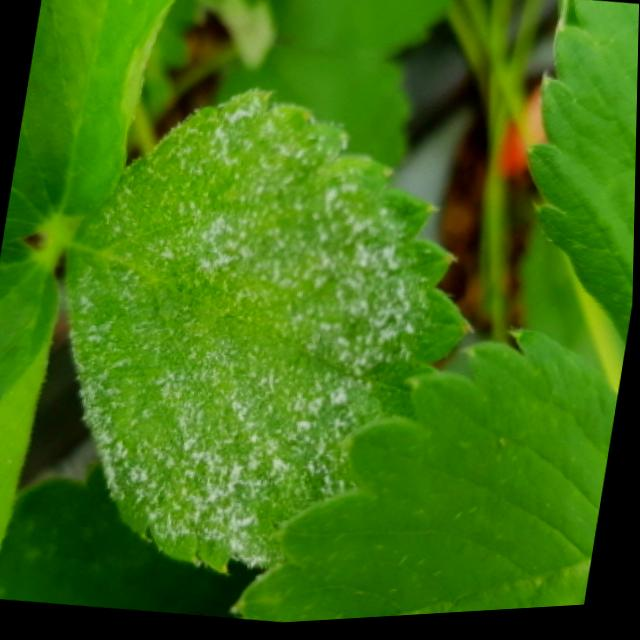Powdery Mildew Leaf: (64, 90, 478, 577)
